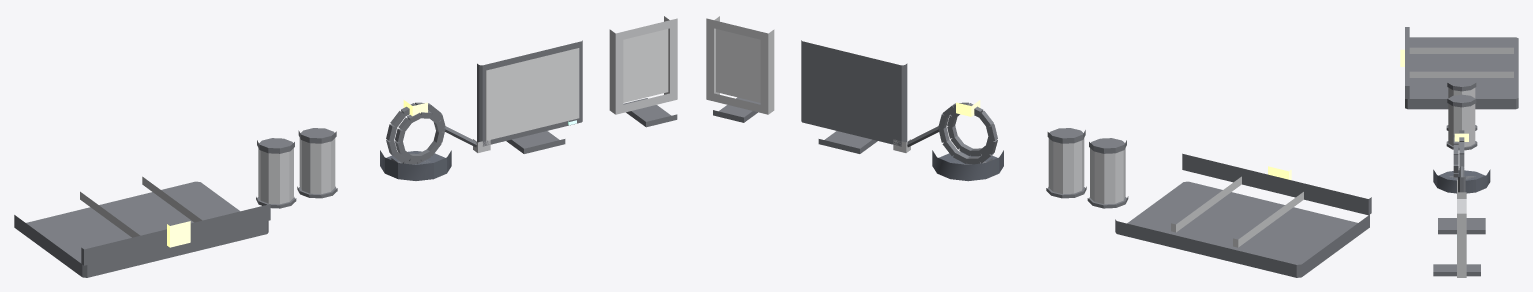
Rendered from iter_05.glb.
3 views of the same model, side by side, from view 1: azimuth 30°, elevation 25°; view 2: azimuth 150°, elevation 25°; view 3: azimuth 270°, elevation 25° (orthographic). The views are drawn at different scales.
Visible parts, largest first — view 1: Meal_Tray, Photo_Slate_Decal_Face, Photo_Frame_Small_Decal_Face, Photo_Frame_Small, Tray_Walls, Photo_Slate, Cup_1, Cable_Coil, Cup_0, Cable_Reel, Tray_Dividers, Photo_Slate_Stand (+4 smaller); view 2: Meal_Tray, Photo_Slate, Tray_Walls, Photo_Frame_Small_Decal_Face, Photo_Frame_Small, Cup_1, Cable_Coil, Cup_0, Cable_Reel, Tray_Dividers, Photo_Slate_Stand, Photo_Frame_Small_Stand (+2 smaller); view 3: Meal_Tray, Tray_Dividers, Cup_1, Cable_Reel, Photo_Frame_Small, Photo_Slate_Stand, Photo_Frame_Small_Stand, Cable_Coil, Tray_Walls, Cup_0_Lid, Cup_1_Lid, Cup_0 (+4 smaller).
Part boxes in pixels (left/top/right/bottom): Meal_Tray: left=14, top=181, right=268, bottom=277; Photo_Slate_Decal_Face: left=485, top=48, right=579, bottom=140; Photo_Frame_Small_Decal_Face: left=623, top=29, right=668, bottom=102; Photo_Frame_Small: left=609, top=16, right=677, bottom=114; Tray_Walls: left=81, top=204, right=270, bottom=265; Photo_Slate: left=477, top=40, right=582, bottom=146; Cup_1: left=299, top=138, right=335, bottom=194; Cable_Coil: left=386, top=102, right=445, bottom=164; Cup_0: left=258, top=148, right=293, bottom=204; Cable_Reel: left=380, top=150, right=451, bottom=180; Tray_Dividers: left=80, top=176, right=202, bottom=237; Photo_Slate_Stand: left=506, top=131, right=565, bottom=153; Meal_Tray: left=1115, top=181, right=1369, bottom=277; Photo_Slate: left=801, top=40, right=907, bottom=146; Tray_Walls: left=1182, top=153, right=1371, bottom=215; Photo_Frame_Small_Decal_Face: left=716, top=29, right=760, bottom=102; Photo_Frame_Small: left=706, top=16, right=774, bottom=114; Cup_1: left=1048, top=138, right=1084, bottom=194; Cable_Coil: left=938, top=102, right=997, bottom=164; Cup_0: left=1090, top=148, right=1125, bottom=204; Cable_Reel: left=932, top=150, right=1003, bottom=181; Tray_Dividers: left=1171, top=176, right=1303, bottom=247; Photo_Slate_Stand: left=818, top=131, right=877, bottom=153; Photo_Frame_Small_Stand: left=713, top=97, right=760, bottom=122; Meal_Tray: left=1405, top=37, right=1518, bottom=109; Tray_Dividers: left=1409, top=47, right=1513, bottom=77; Cup_1: left=1448, top=103, right=1475, bottom=146; Cable_Reel: left=1433, top=169, right=1490, bottom=193; Photo_Frame_Small: left=1457, top=192, right=1466, bottom=277; Photo_Slate_Stand: left=1438, top=218, right=1485, bottom=234; Photo_Frame_Small_Stand: left=1433, top=264, right=1480, bottom=276; Cable_Coil: left=1453, top=130, right=1464, bottom=177; Tray_Walls: left=1405, top=27, right=1409, bottom=98; Cup_0_Lid: left=1447, top=78, right=1476, bottom=91; Cup_1_Lid: left=1447, top=94, right=1476, bottom=107; Cup_0: left=1448, top=87, right=1475, bottom=98.
Bounding box in the file's own units: 1.21 × 0.16 × 0.25.
